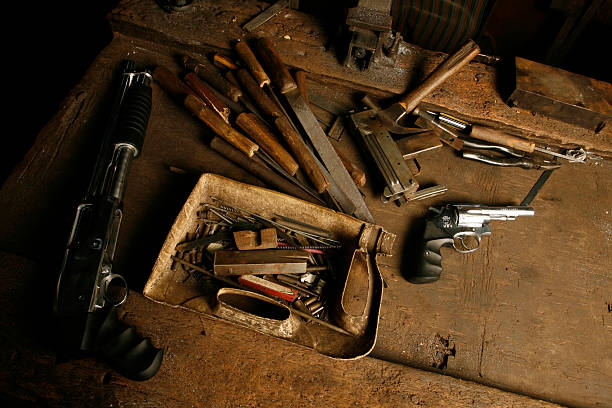pistol: (35, 50, 174, 377), (396, 186, 543, 291)
